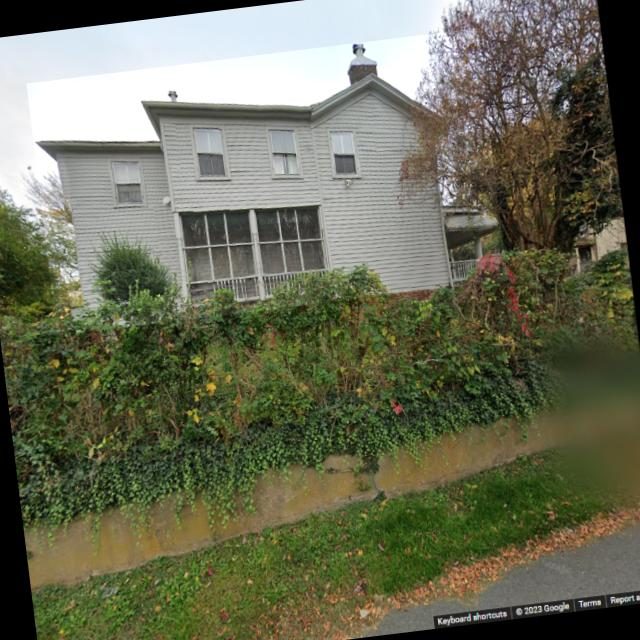House: (26, 27, 507, 336)
